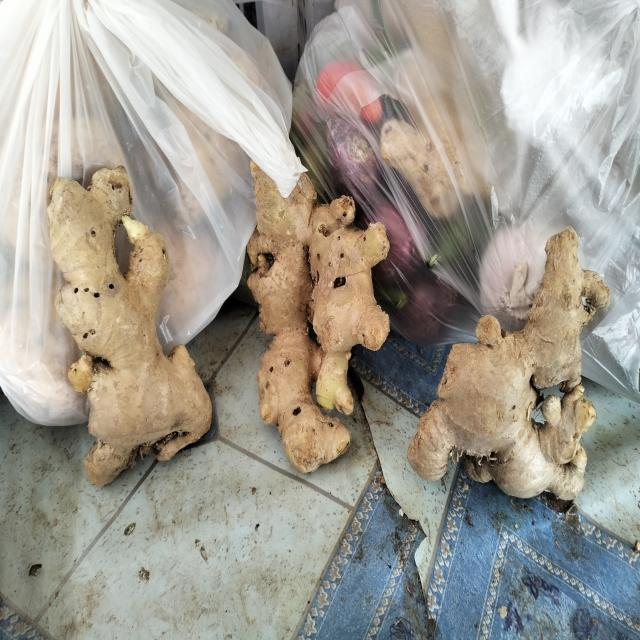ginger: (412, 215, 618, 557), (36, 146, 225, 499), (234, 159, 382, 496)
